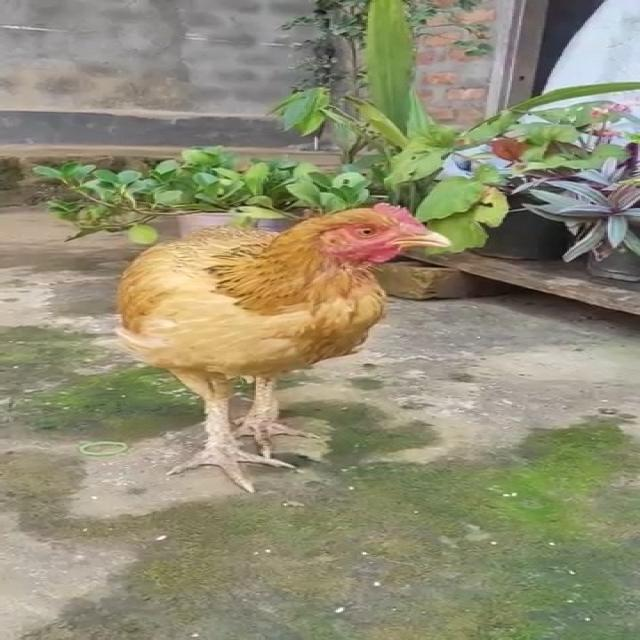Breathing: (112, 200, 453, 493)
